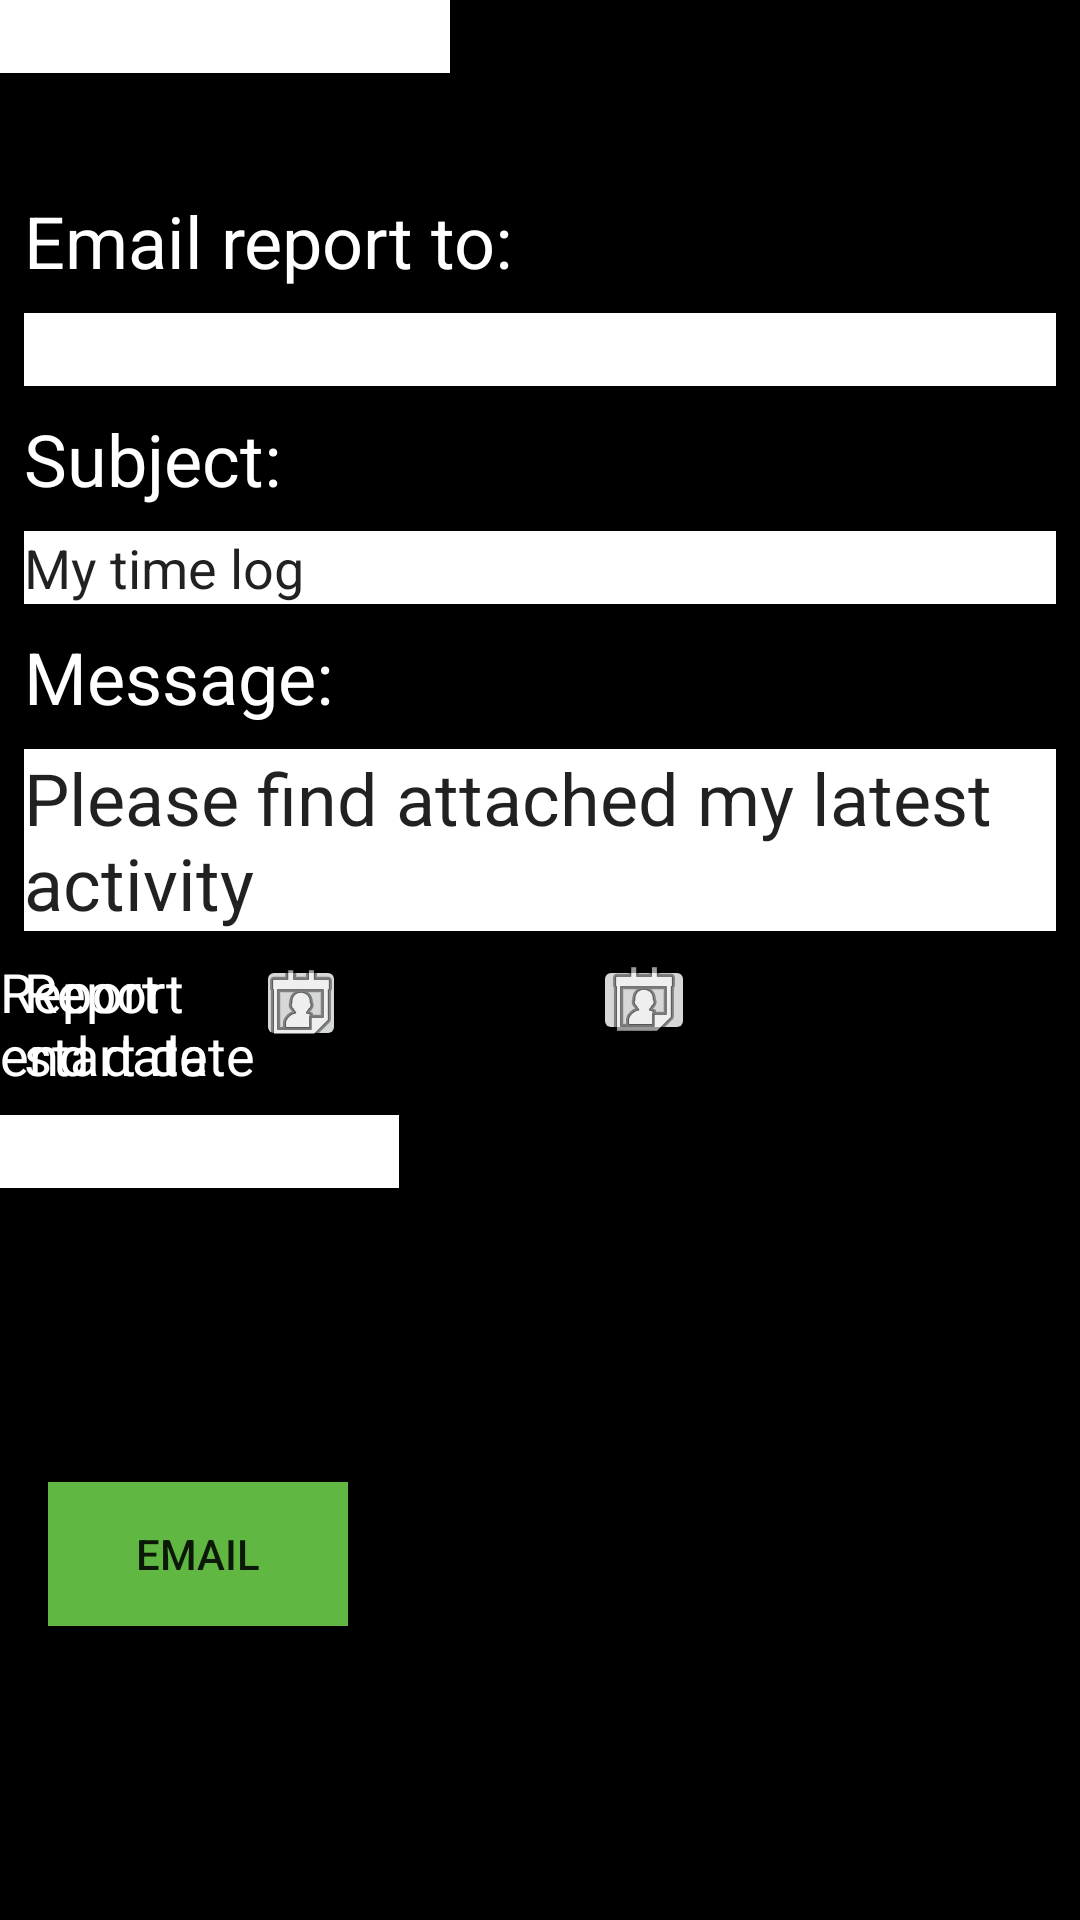

Icon bounding boxes for this 1080px x 1920px phone screenshot, format (left=x1, top=y1, right=x2, bottom=y2):
calendar: (left=605, top=967, right=683, bottom=1031), (left=268, top=970, right=334, bottom=1034)
